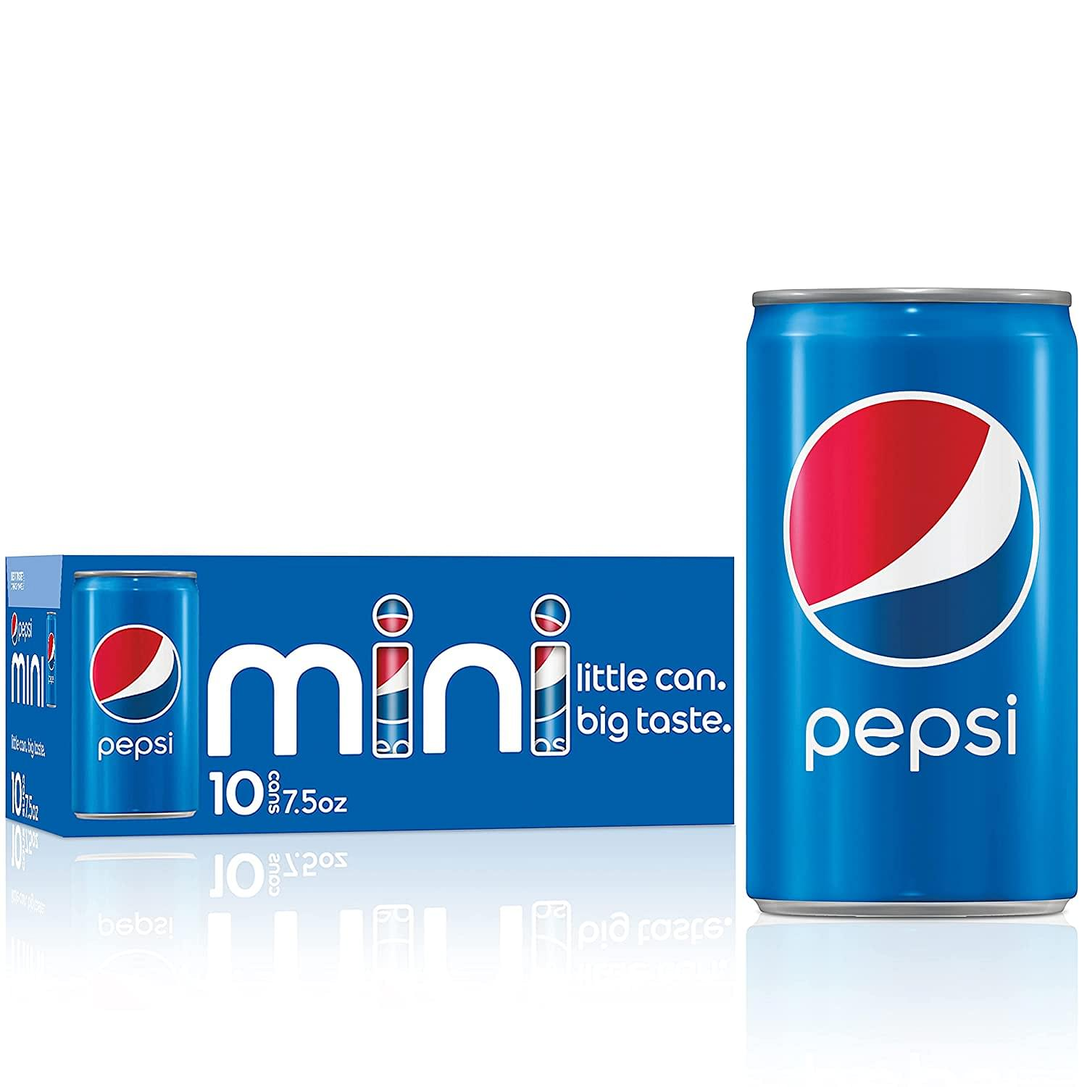cylinder: (746, 287, 1078, 920), (71, 570, 199, 820)
